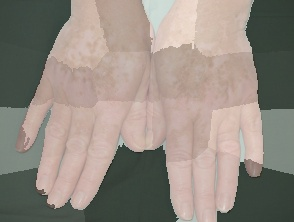vitiligo: (5, 0, 172, 222), (144, 0, 266, 222)
